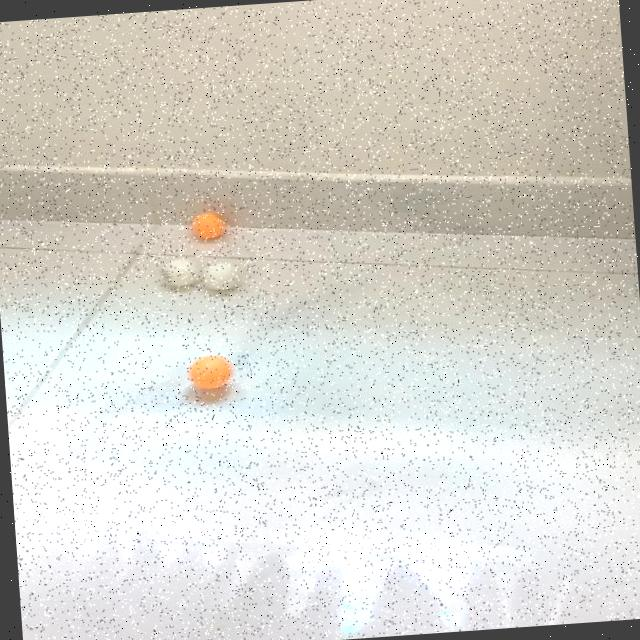ping-pong-ball: (188, 353, 232, 392), (156, 258, 200, 290), (202, 261, 242, 294), (191, 214, 229, 242)
